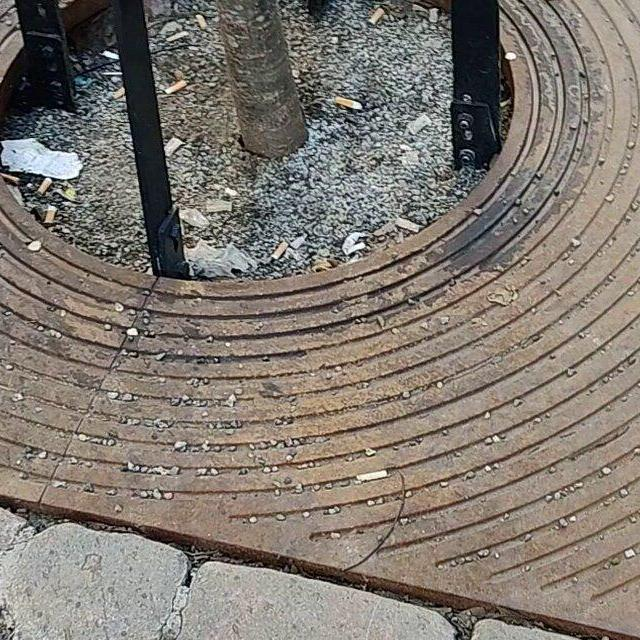Cigarette Butt: (336, 94, 364, 111), (364, 9, 380, 29), (40, 206, 57, 224), (269, 245, 285, 263), (397, 220, 423, 231), (357, 472, 383, 482), (166, 79, 183, 93), (163, 137, 177, 154), (195, 13, 207, 26), (39, 176, 47, 194), (113, 88, 123, 100)
